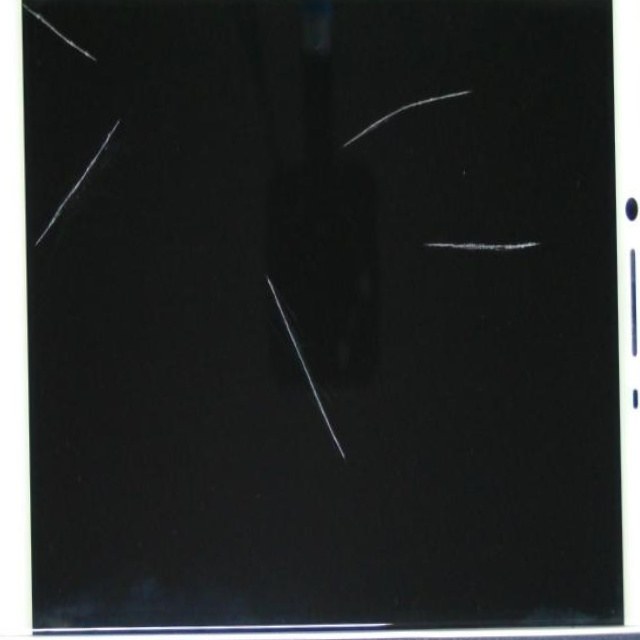scratch: (208, 326, 522, 640), (324, 73, 640, 379), (300, 0, 640, 165)
